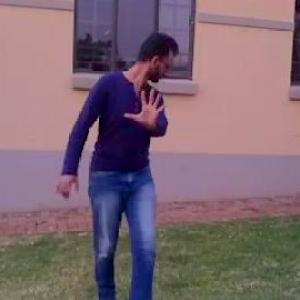follow_hand: (126, 83, 171, 129)
